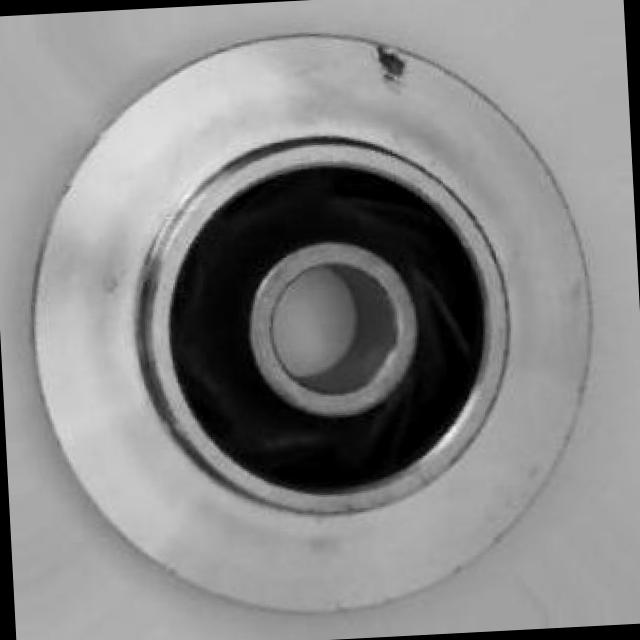Defect: (365, 31, 412, 97)
